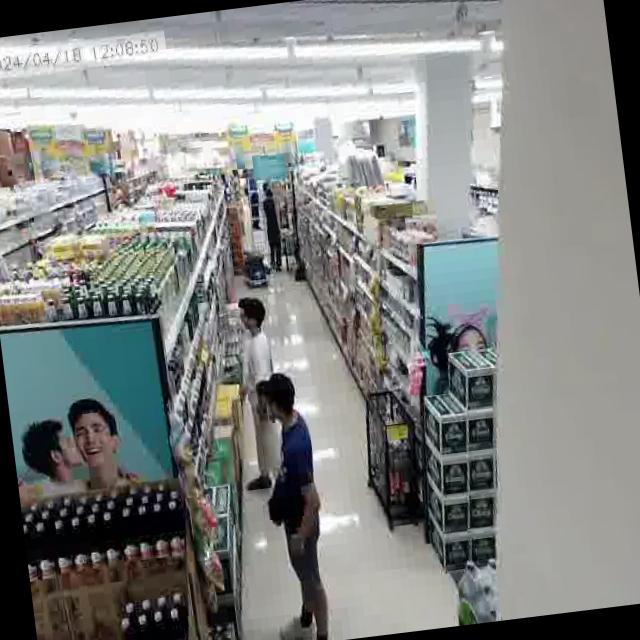shoplifting: (237, 361, 353, 640)
